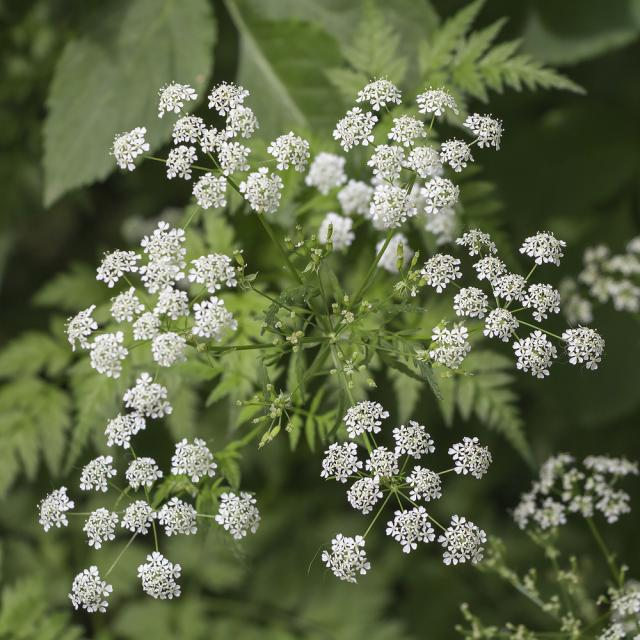Poisonous-Hemlock: (45, 81, 640, 635)
